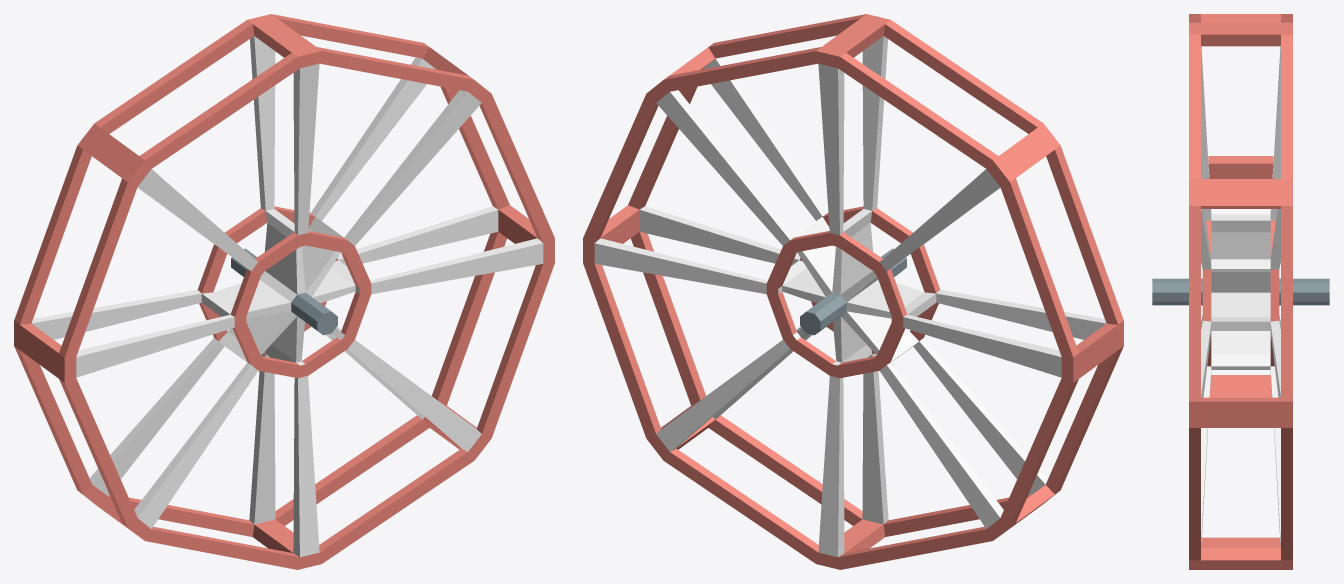
Rendered from wheel.glb.
The picture shows the model from 3 angles, left to right: view 1: azimuth 30°, elevation 25°; view 2: azimuth 150°, elevation 25°; view 3: azimuth 270°, elevation 25°; orthographic projection. The views are drawn at different scales.
Parts seen in each view (by area): view 1: RUEDA; view 2: RUEDA; view 3: RUEDA.
Part boxes in pixels (x1,y1,x2,y2): RUEDA: (14,14,554,569); RUEDA: (583,14,1123,569); RUEDA: (1152,14,1329,569).
Bounding box in the file's own units: 9.8 × 9.8 × 2.99.
